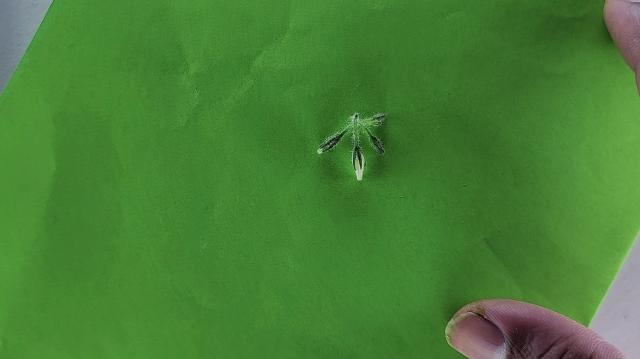Flower Bud: (317, 129, 348, 154), (353, 147, 365, 181), (368, 132, 385, 155), (371, 113, 388, 123)
